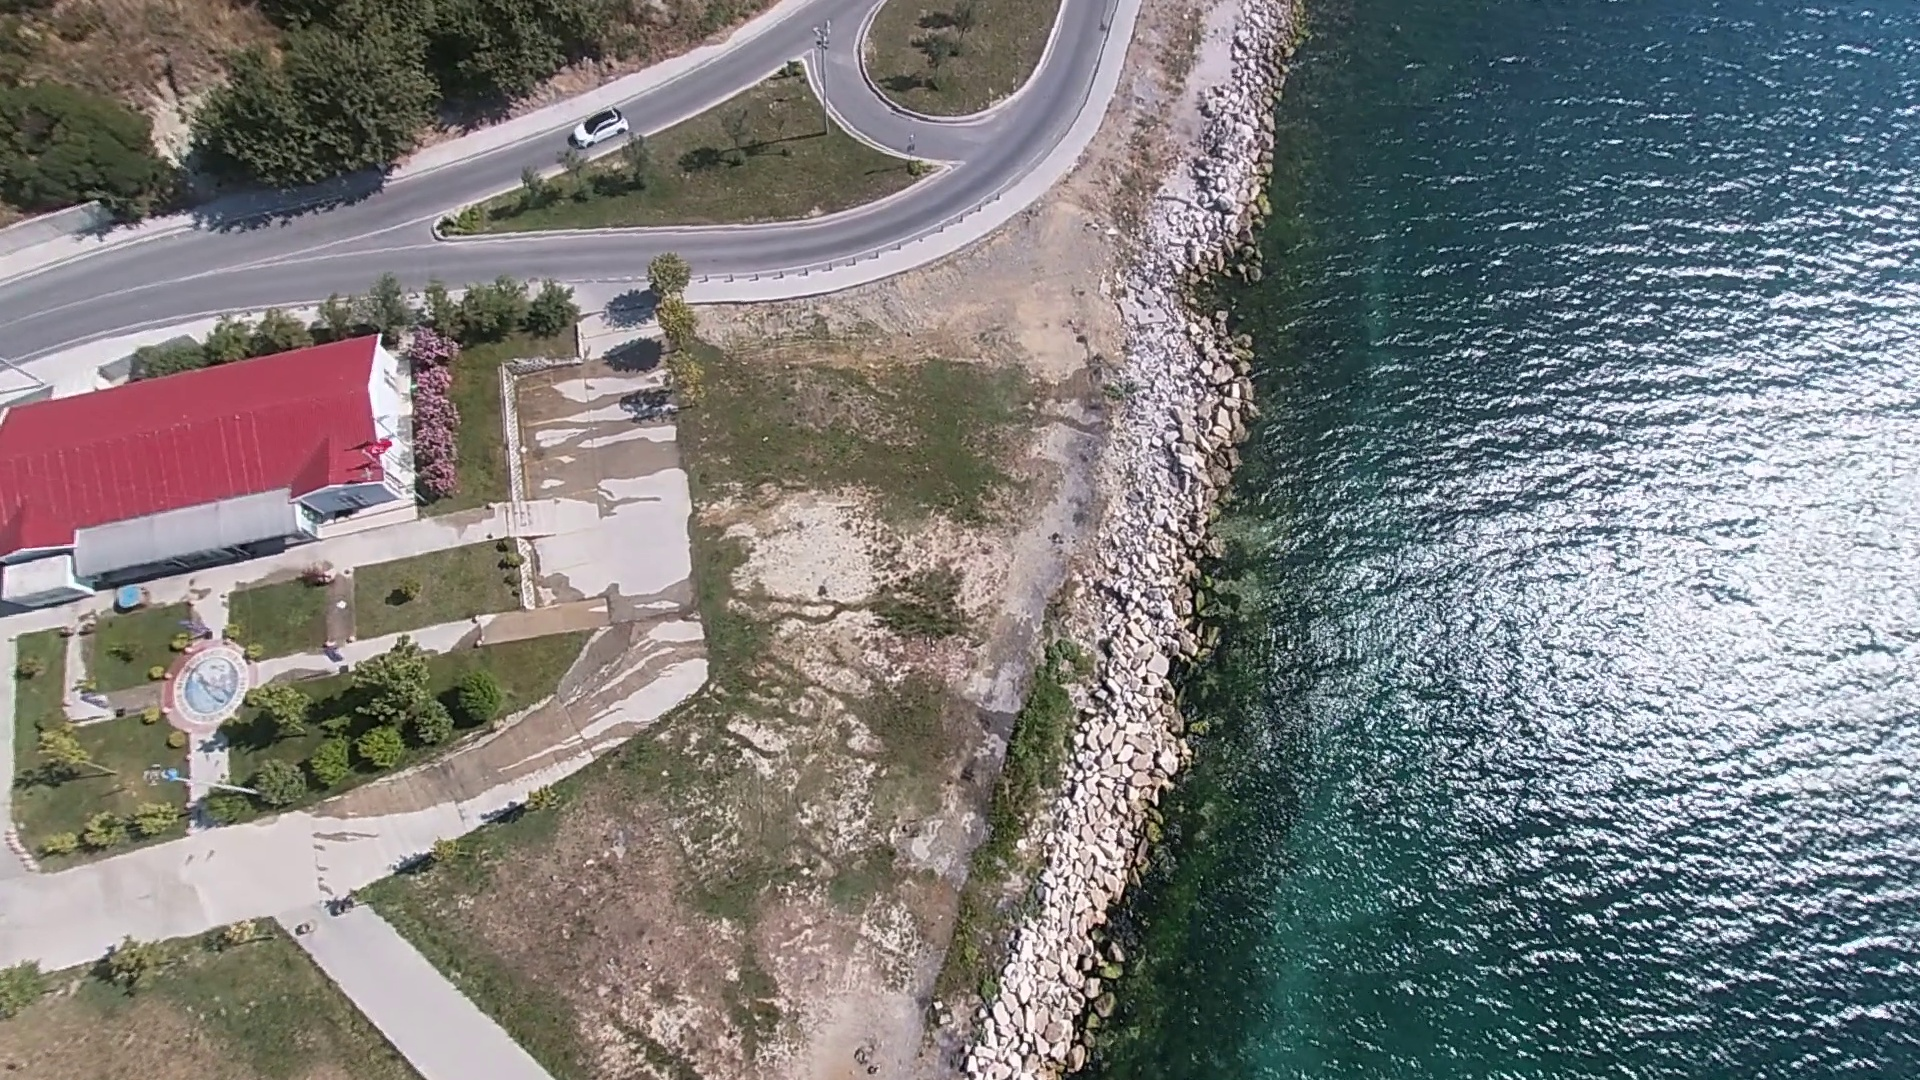arac: (566, 105, 626, 149)
